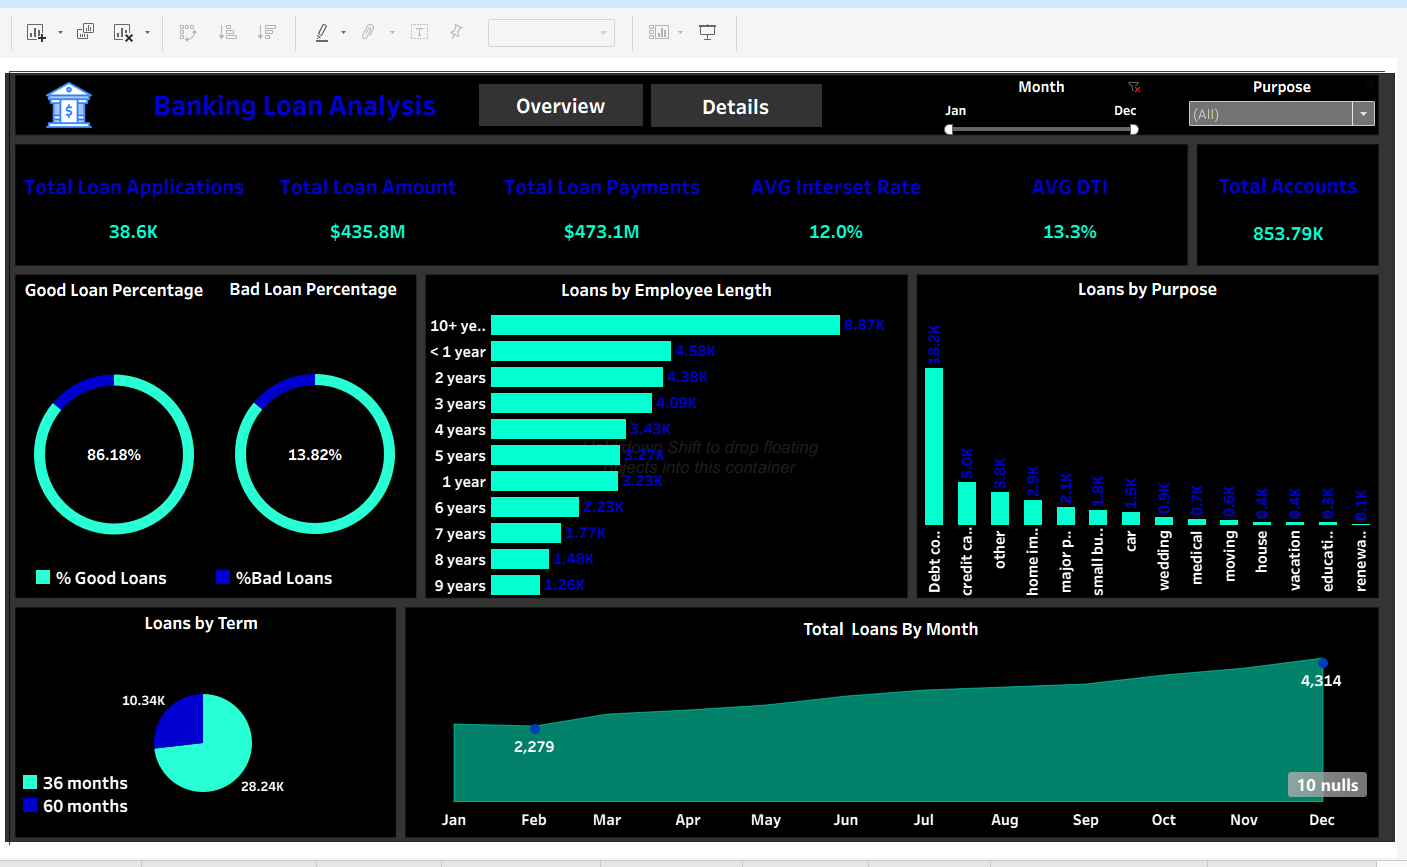

The page's visual inventory and layout, read from the dashboard file:
{"tool":"tableau","page":{"name":"Overview","canvas":[1400,800],"ordinal":1},"visuals":[{"type":"image","param":"Image/HR background.png","box":[8,8,1384,784]},{"type":"text","box":[19,15,454,62]},{"type":"filter","title":"Loans by Month","param":"[federated.0tqnj1k01054us15jw4jw1k3xr4j].[tmn:issue_date:qk]","box":[943,18,203,59]},{"type":"filter","title":"Loans by Purpose","param":"[federated.0tqnj1k01054us15jw4jw1k3xr4j].[none:purpose:nk]","box":[1189,18,192,56]},{"type":"image","param":"Image/8473577.png","box":[47,22,52,49]},{"type":"dashboard-object","box":[482,26,164,42]},{"type":"dashboard-object","box":[654,26,171,43]},{"type":"worksheet","title":"KPIs","mark":"Text","box":[20,86,1170,120]},{"type":"worksheet","title":"Total Acc","mark":"Text","box":[1201,109,181,90]},{"type":"worksheet","title":"Bad Loan Applications","mark":"Pie","rows":["Calculation_894808957647745042","Calculation_894808957647777811"],"box":[216,215,204,324]},{"type":"worksheet","title":"Loans by Purpose","mark":"Automatic","rows":["Calculation_1921066722022273024"],"cols":["purpose"],"box":[921,215,459,324]},{"type":"worksheet","title":"Good Loan Applications","mark":"Pie","rows":["Calculation_894808957647745042","Calculation_894808957647777811"],"box":[22,216,190,323]},{"type":"worksheet","title":"Loans by Employee Length","mark":"Automatic","rows":["emp_length"],"cols":["Calculation_1921066722022273024"],"box":[430,216,479,324]},{"type":"legend","title":"Good Loan Applications","param":"[federated.0tqnj1k01054us15jw4jw1k3xr4j].[:Measure Names]","box":[35,484,364,50]},{"type":"worksheet","title":"Loans by Term ","mark":"Pie","box":[17,549,378,234]},{"type":"worksheet","title":"Loans by Month","mark":"Area","rows":["Calculation_1921066722022273024","Calculation_894808957622792195"],"cols":["issue_date"],"box":[413,555,962,219]},{"type":"legend","title":"Loans by Term ","param":"[federated.0tqnj1k01054us15jw4jw1k3xr4j].[none:term:nk]","box":[22,713,140,64]}]}

Visuals, with their boxes on the page's 1400x800 design canvas (x1, y1, x2, y2). These are canvas units, not pixel positions in the 1407x867 screenshot, which may show the page scaled, cropped or inside an application window:
image: (8,8,1392,792)
text: (19,15,473,77)
"Loans by Month" filter: (943,18,1146,77)
"Loans by Purpose" filter: (1189,18,1381,74)
image: (47,22,99,71)
dashboard-object: (482,26,646,68)
dashboard-object: (654,26,825,69)
"KPIs" worksheet (Text marks): (20,86,1190,206)
"Total Acc" worksheet (Text marks): (1201,109,1382,199)
"Bad Loan Applications" worksheet (Pie marks): (216,215,420,539)
"Loans by Purpose" worksheet: (921,215,1380,539)
"Good Loan Applications" worksheet (Pie marks): (22,216,212,539)
"Loans by Employee Length" worksheet: (430,216,909,540)
"Good Loan Applications" legend: (35,484,399,534)
"Loans by Term " worksheet (Pie marks): (17,549,395,783)
"Loans by Month" worksheet (Area marks): (413,555,1375,774)
"Loans by Term " legend: (22,713,162,777)
